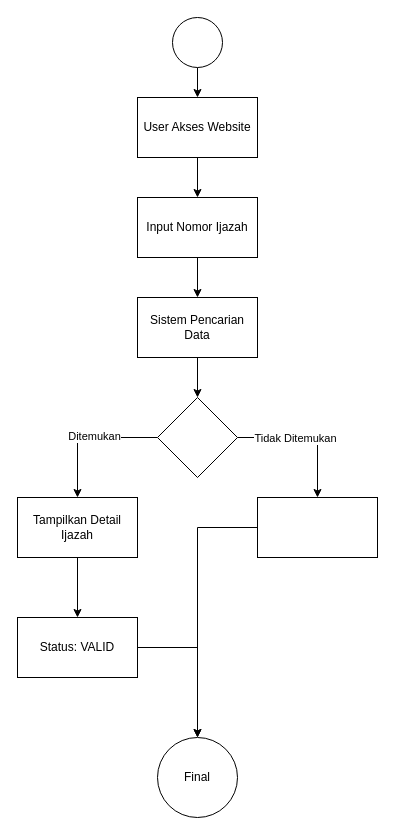
Some shapes in this 395 by 835 pixel diagram are drawn without their labels. The centre of each missing label's shape, as x and y in pixels:
Data Ditemukan?: [197,437]
Mulai: [197,42]
Tampilkan "Tidak VALID": [317,527]
